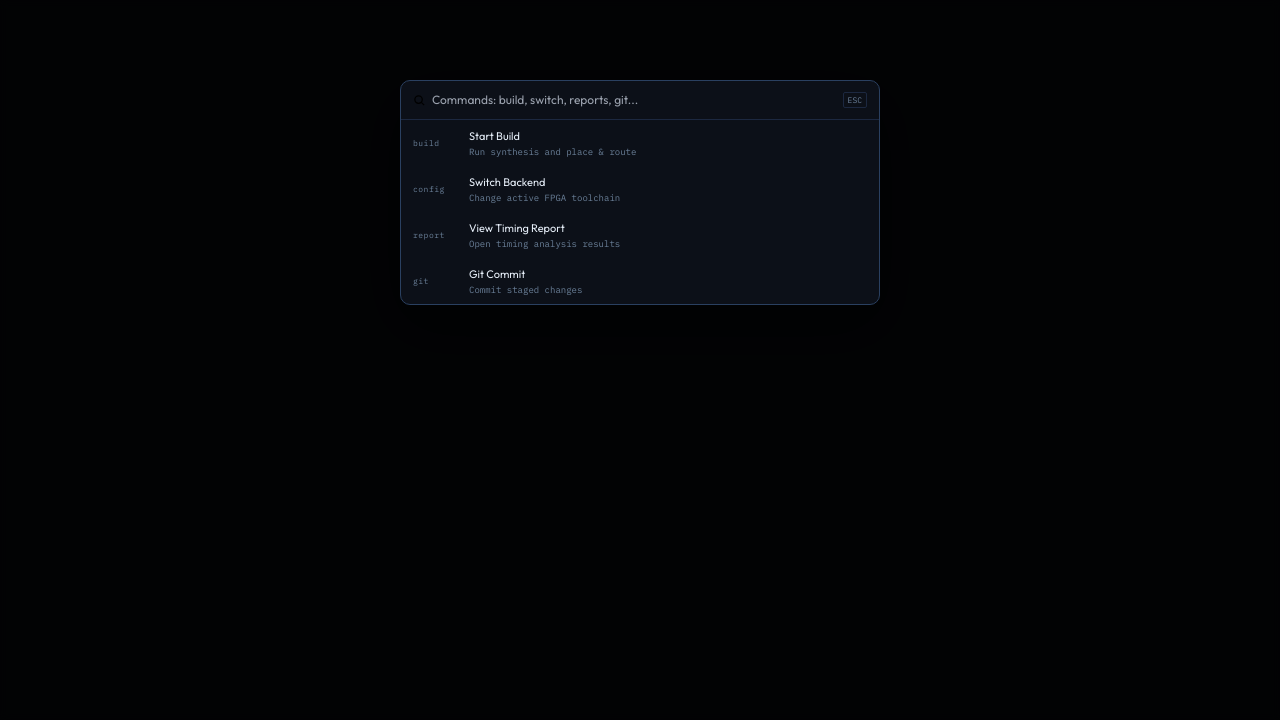
Test case: CommandPalette › filters commands by label when searching
Type "build" into the field with placeholder "Commands: build, switch, reports, git...".
click(634, 100); type("build")  # box top-left (432, 91), bottom-right (837, 109)
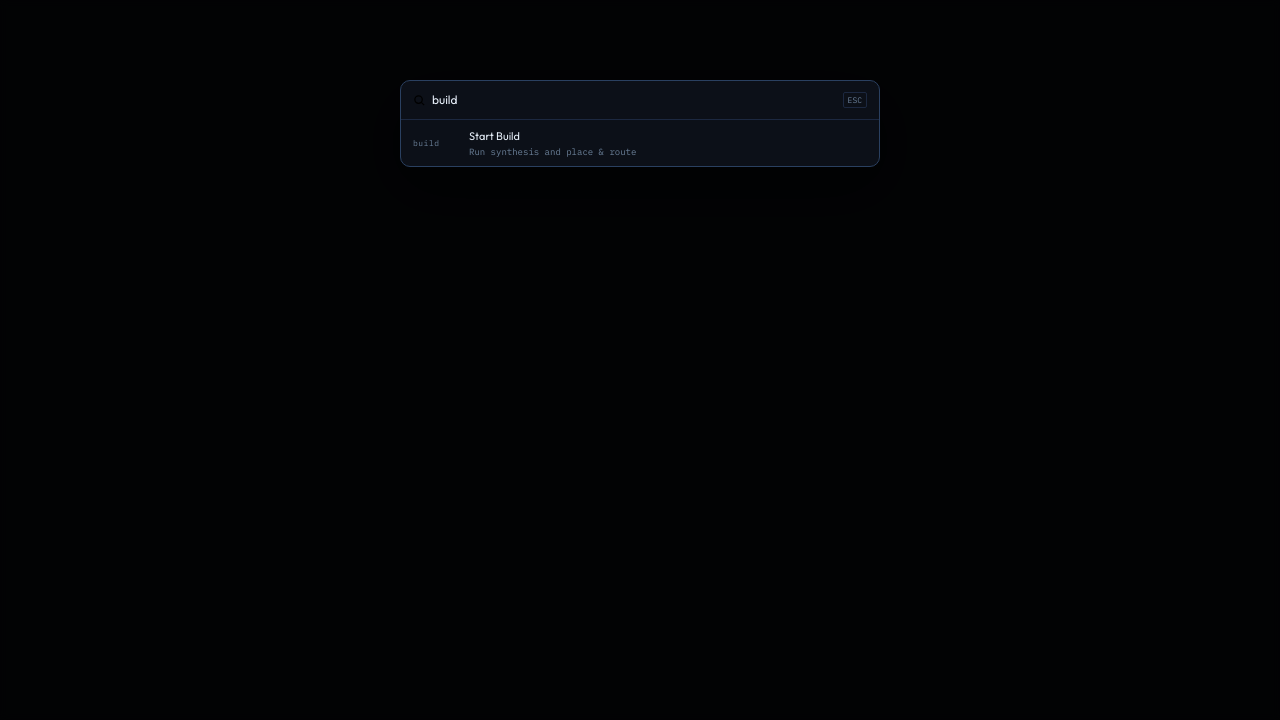
Expected: the text "Start Build" is shown, top-left (469, 129), bottom-right (520, 143)
Result: the text "Git Commit" is gone
